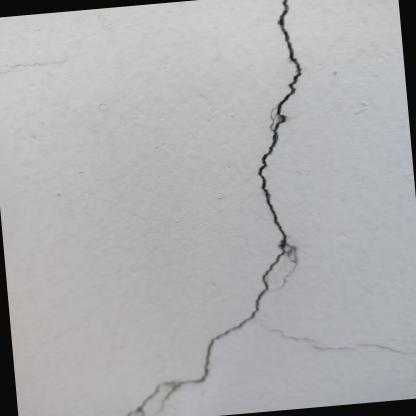crack: (125, 0, 305, 416)
